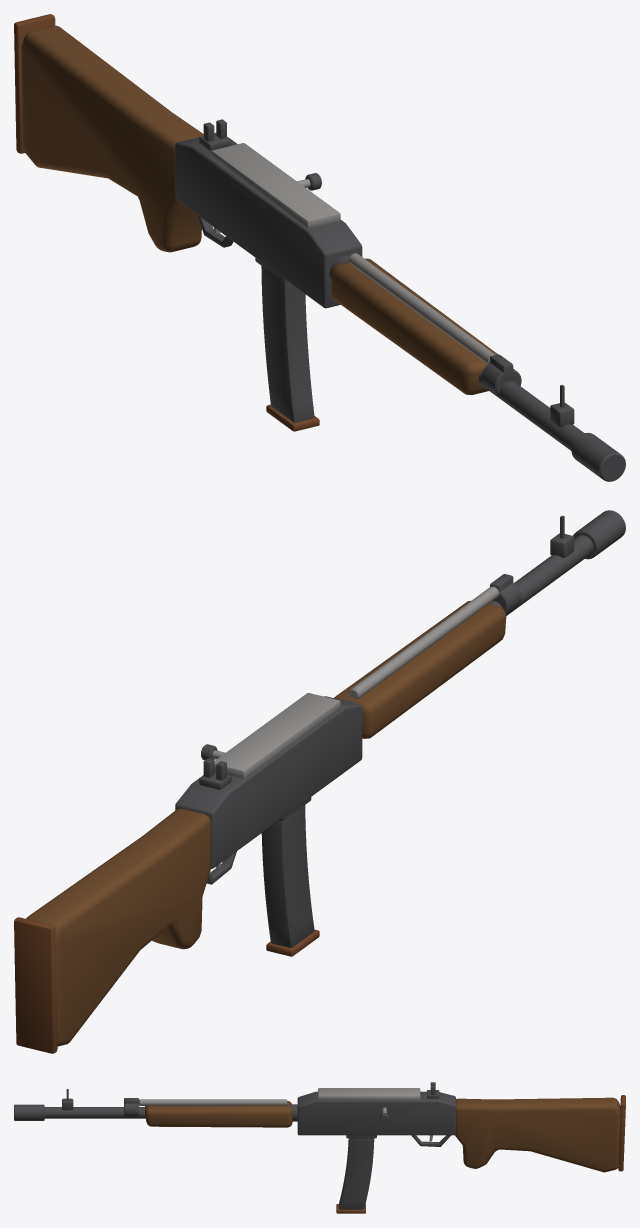
File: semi_auto_rifle.fbx
The picture shows the model from 3 angles, top to bottom: view 1: azimuth 30°, elevation 25°; view 2: azimuth 150°, elevation 25°; view 3: azimuth 270°, elevation 25°; orthographic projection. The views are drawn at different scales.
Parts seen in each view (by area): view 1: Rifle_Body, Magazine; view 2: Rifle_Body, Magazine; view 3: Rifle_Body, Magazine.
Boxes of the visible parts, x1,y1,x2,y2 form: Rifle_Body: (14,14,625,481); Magazine: (261,266,319,431); Rifle_Body: (14,510,625,1053); Magazine: (261,805,319,956); Rifle_Body: (14,1082,625,1172); Magazine: (336,1138,374,1213).
Size of the model in its own units: 0.093 by 0.272 by 1.2.
